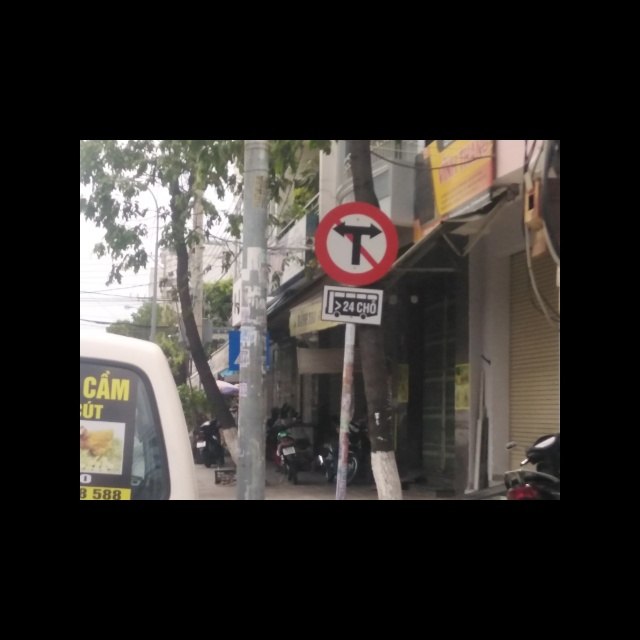Cấm rẽ trái và rẽ phải: (313, 202, 398, 287)
